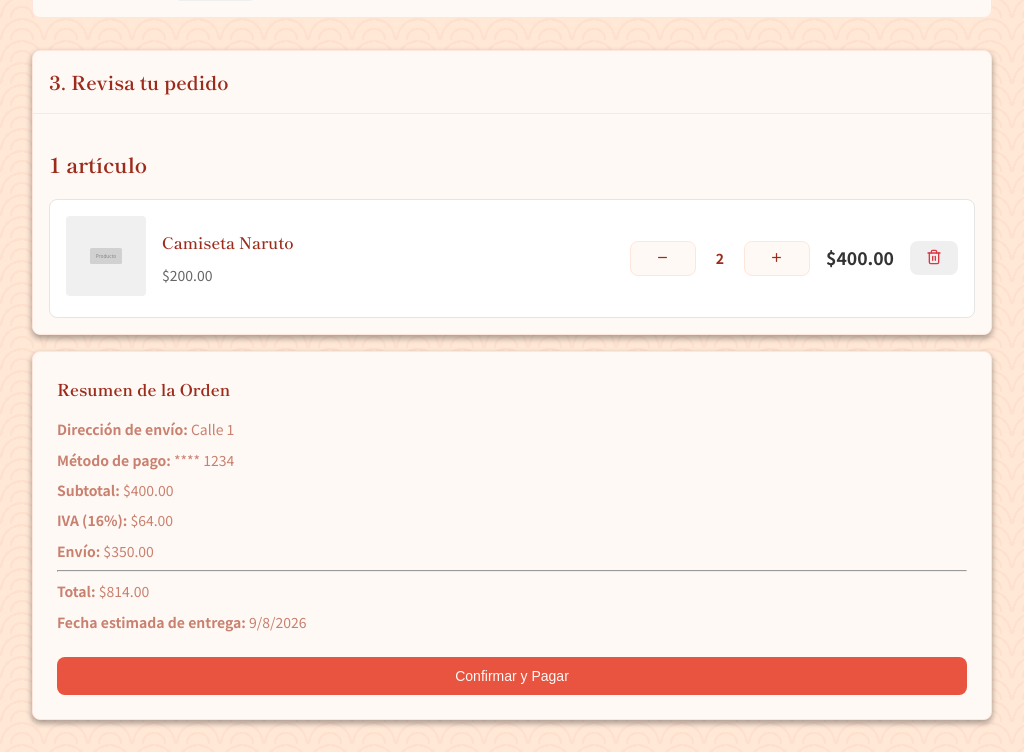
Test: negativo: fallo al crear la orden (POST 500) -> mensaje honesto inline, checkout sigue visible y usable, carrito intacto
The width and height of the screenshot is (1024, 752).
(page scrolled)
Click the button "Confirmar y Pagar".
click(512, 676)  # box [57,657,967,695]
(page scrolled)
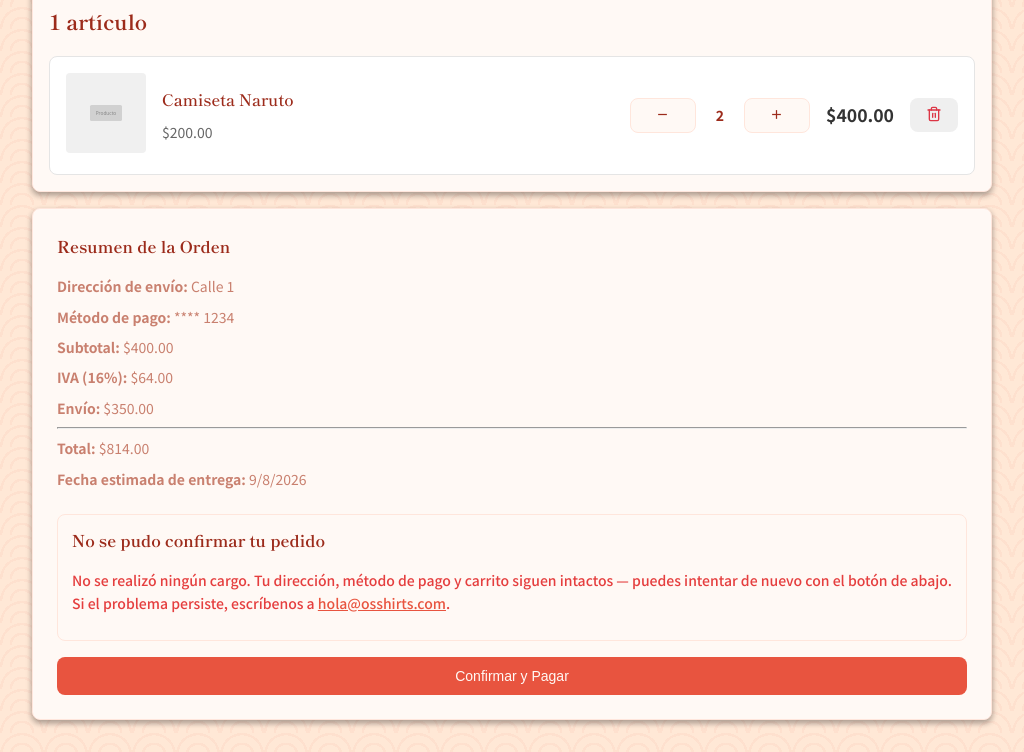
Check: the heading "Resumen de la Orden" is shown, box [57,234,230,258]
Check: the heading "No se pudo confirmar tu pedido" is shown, box [72,528,325,552]
Check: the text "No se realizó ningún cargo" is shown, box [72,570,952,613]
